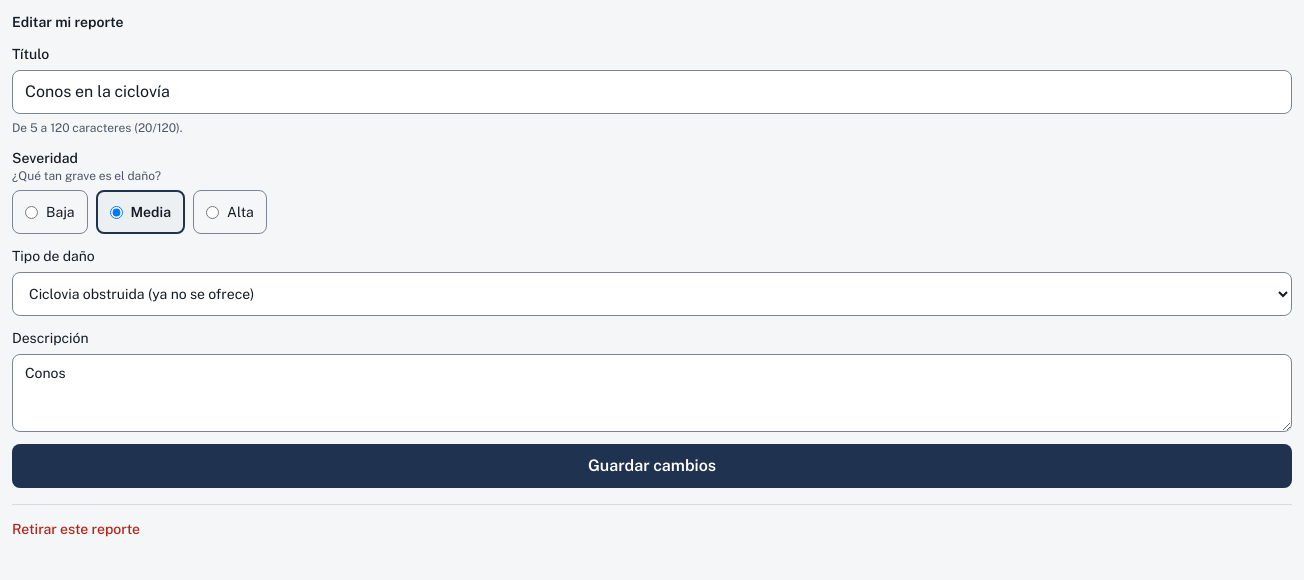
Test: EditarReporte (US-08 con categoría desactivada, US-29) › NC-02: un título cambiado e inválido se marca en su campo y no se envía
Clear the field labelled "Título". click: (652,92)
box: [12,70,1292,114]
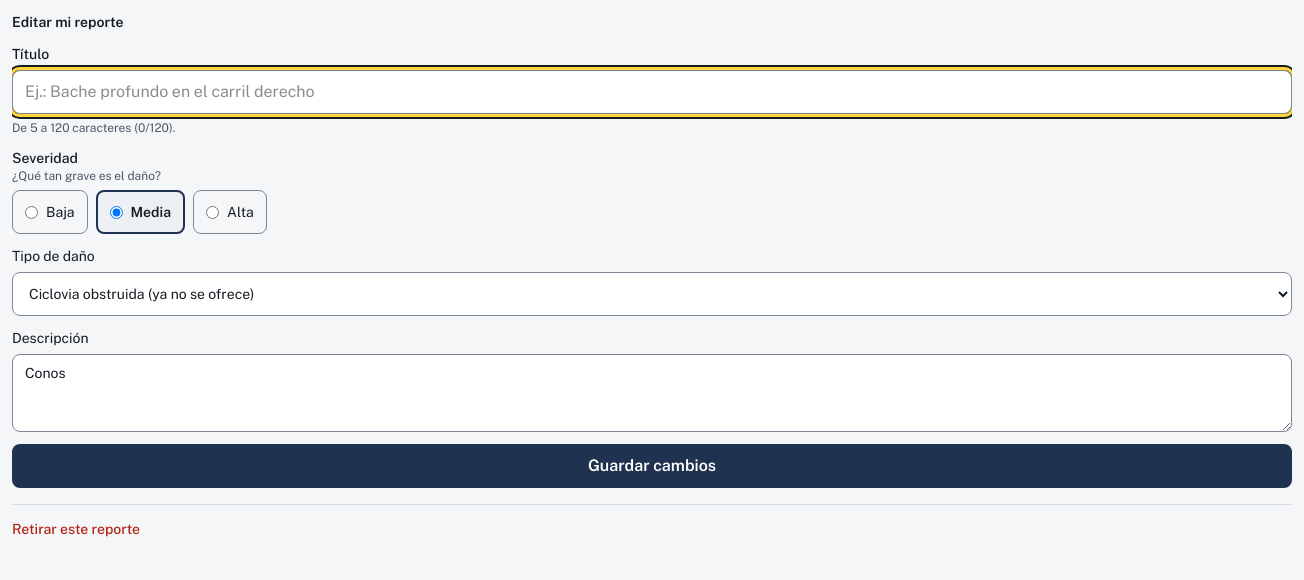
Click the button "Guardar cambios". click: (652,466)
box: [12,444,1292,488]
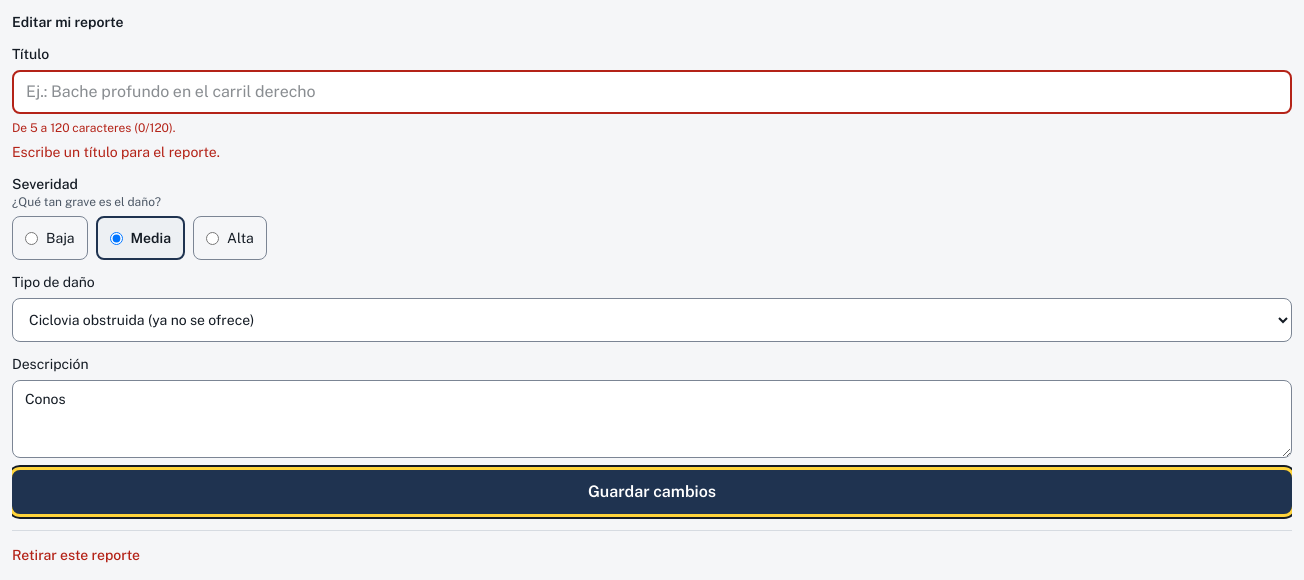
Expected: the text "Escribe un título para el reporte." is shown, [12,144,220,160]
